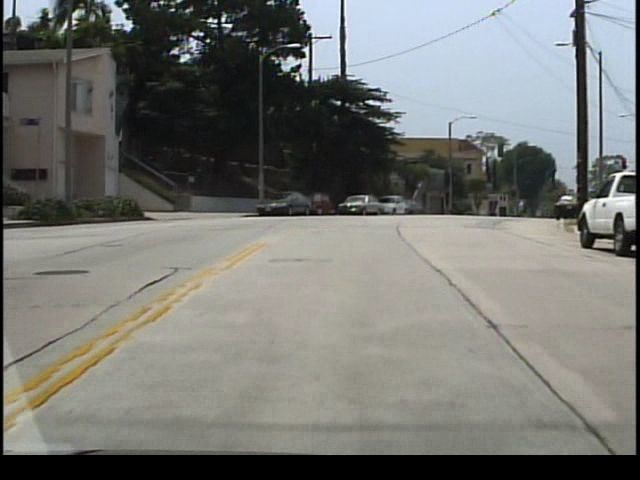person: (519, 199, 528, 220)
